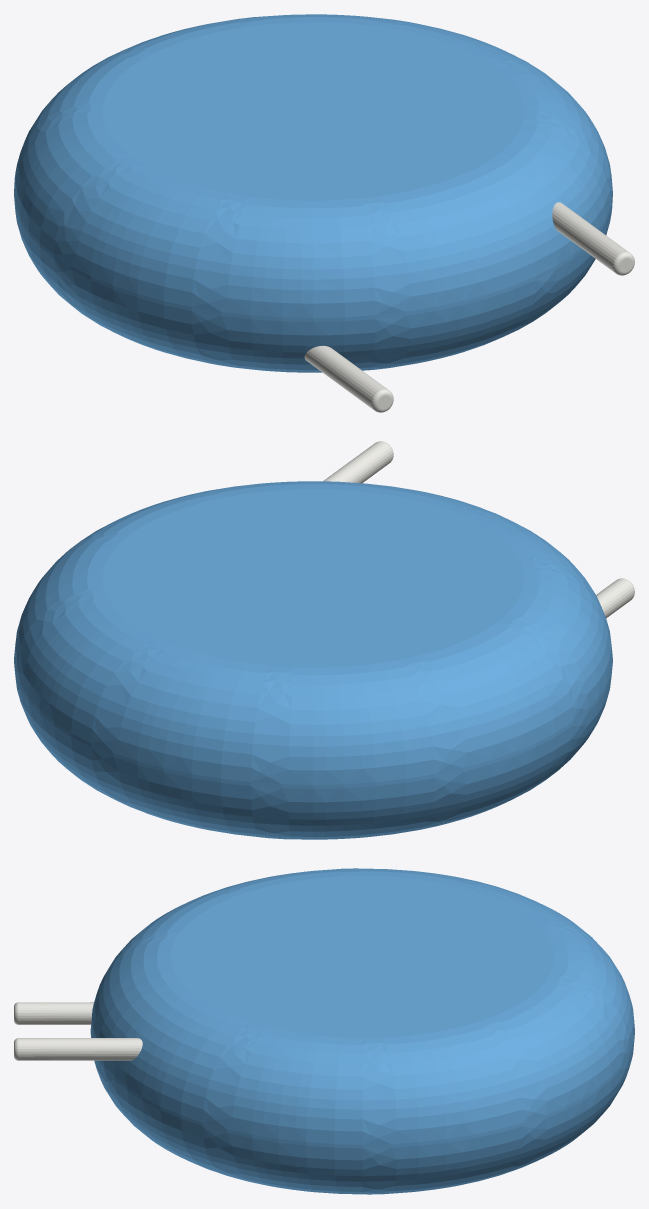
Rendered from RV_Disc_D21.5mm_W6.5mm_P10mm.glb.
3 renders of one model, top to bottom at view 1: azimuth 30°, elevation 25°; view 2: azimuth 150°, elevation 25°; view 3: azimuth 270°, elevation 25°, orthographic. The views are drawn at different scales.
Visible parts, largest first — view 1: Shape_IndexedFaceSet.001, Shape_IndexedFaceSet.003, Shape_IndexedFaceSet.002, Shape_IndexedFaceSet, Shape_IndexedFaceSet.006, Shape_IndexedFaceSet.004; view 2: Shape_IndexedFaceSet.001, Shape_IndexedFaceSet.003, Shape_IndexedFaceSet.002, Shape_IndexedFaceSet, Shape_IndexedFaceSet.004, Shape_IndexedFaceSet.006; view 3: Shape_IndexedFaceSet.001, Shape_IndexedFaceSet.003, Shape_IndexedFaceSet.002, Shape_IndexedFaceSet.004, Shape_IndexedFaceSet, Shape_IndexedFaceSet.006.
Part boxes in pixels (x1,y1,x2,y2): Shape_IndexedFaceSet.001: (14, 14, 612, 317); Shape_IndexedFaceSet.003: (102, 22, 524, 200); Shape_IndexedFaceSet.002: (14, 196, 612, 372); Shape_IndexedFaceSet: (14, 192, 612, 321); Shape_IndexedFaceSet.006: (304, 345, 387, 409); Shape_IndexedFaceSet.004: (552, 202, 629, 272); Shape_IndexedFaceSet.001: (14, 481, 612, 784); Shape_IndexedFaceSet.003: (102, 489, 524, 667); Shape_IndexedFaceSet.002: (14, 666, 612, 839); Shape_IndexedFaceSet: (14, 659, 612, 788); Shape_IndexedFaceSet.004: (323, 441, 392, 483); Shape_IndexedFaceSet.006: (596, 578, 634, 618); Shape_IndexedFaceSet.001: (90, 868, 634, 1144); Shape_IndexedFaceSet.003: (171, 876, 554, 1037); Shape_IndexedFaceSet.002: (91, 1037, 634, 1194); Shape_IndexedFaceSet.004: (18, 1038, 142, 1060); Shape_IndexedFaceSet: (90, 1031, 634, 1148); Shape_IndexedFaceSet.006: (18, 1002, 93, 1024).
Size of the model in its own units: 8.47 by 2.56 by 9.66.
